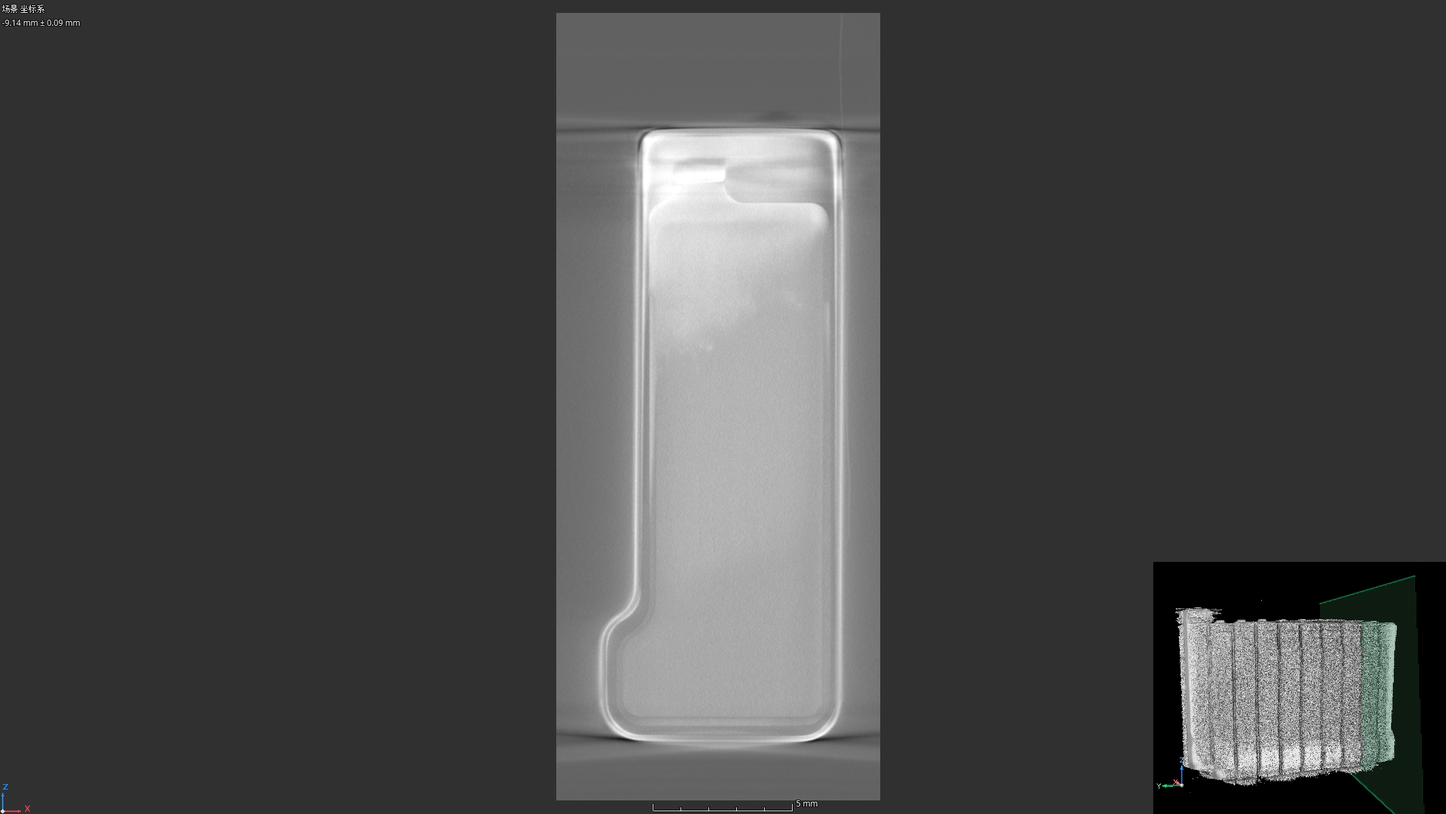light: (701, 342, 719, 355)
